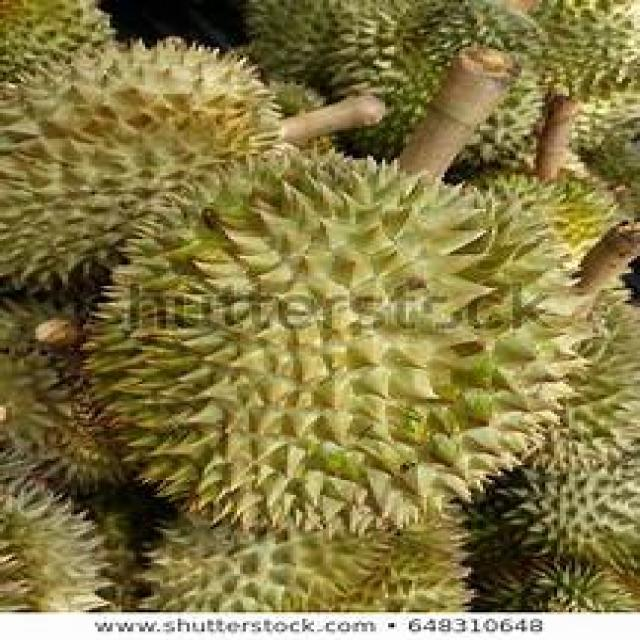mature: (87, 151, 578, 534)
